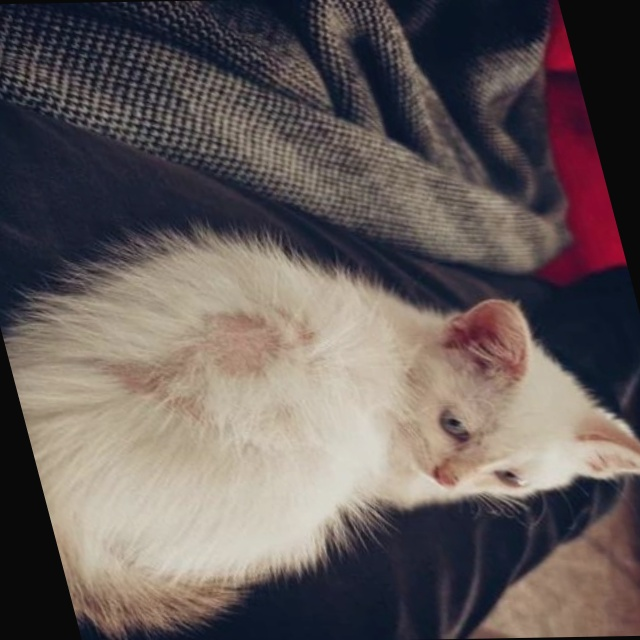hairloss: (103, 319, 307, 407)
